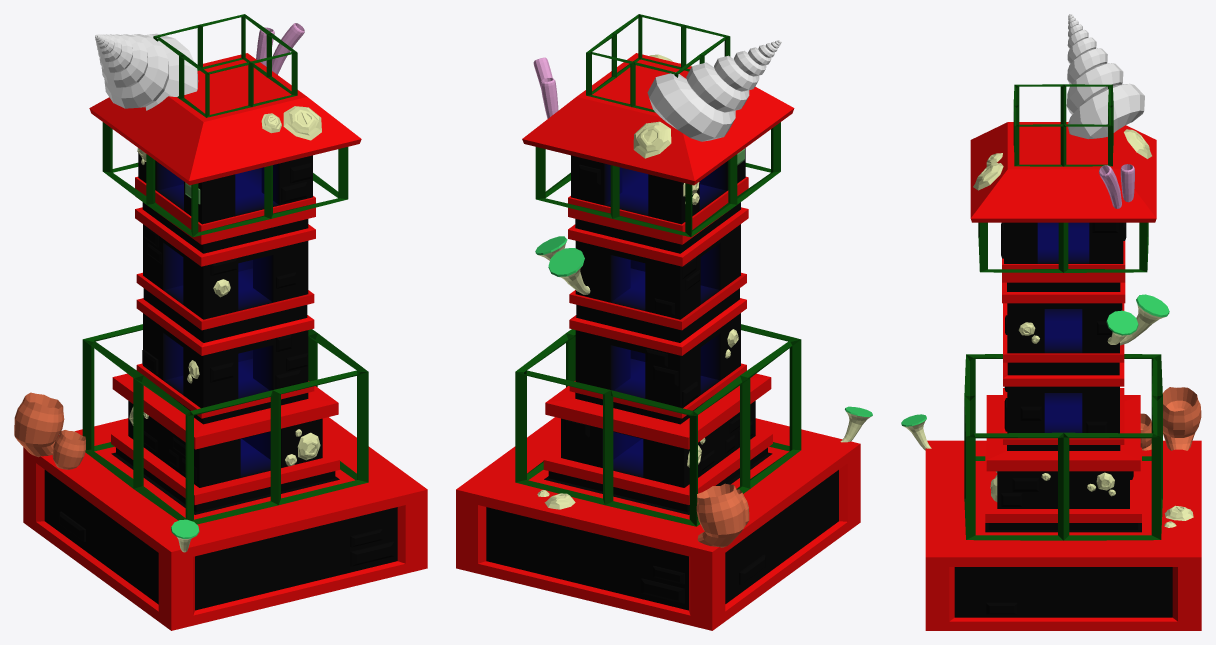
The model's file is TowerKelp.fbx.
3 renders of one model, left to right at view 1: azimuth 30°, elevation 25°; view 2: azimuth 150°, elevation 25°; view 3: azimuth 270°, elevation 25°, orthographic. The views are drawn at different scales.
Visible parts, largest first — view 1: Bottom, Circle, Cylinder, BarnacleRoof4.001, TubeCoralRoof1.002, TableCoral2.001; view 2: Bottom, Circle, Cylinder, TableCoral2.001, BarnacleRoof4.001, TubeCoralRoof1.002; view 3: Bottom, Circle, Cylinder, BarnacleRoof4.001, TableCoral2.001, TubeCoralRoof1.002.
Part boxes in pixels (bbox=[...]): Bottom: bbox=[23, 14, 427, 630]; Circle: bbox=[95, 33, 198, 110]; Cylinder: bbox=[14, 392, 85, 469]; BarnacleRoof4.001: bbox=[129, 106, 321, 466]; TubeCoralRoof1.002: bbox=[256, 23, 304, 74]; TableCoral2.001: bbox=[171, 519, 199, 552]; Bottom: bbox=[456, 14, 860, 630]; Circle: bbox=[647, 40, 781, 141]; Cylinder: bbox=[696, 483, 749, 547]; TableCoral2.001: bbox=[535, 236, 872, 442]; BarnacleRoof4.001: bbox=[537, 54, 738, 509]; TubeCoralRoof1.002: bbox=[533, 57, 558, 118]; Bottom: bbox=[925, 84, 1201, 630]; Circle: bbox=[1066, 14, 1144, 139]; Cylinder: bbox=[1140, 387, 1201, 450]; BarnacleRoof4.001: bbox=[973, 129, 1193, 527]; TableCoral2.001: bbox=[901, 294, 1169, 450]; TubeCoralRoof1.002: bbox=[1099, 164, 1134, 208].
Size of the model in its own units: 4.95 by 5.04 by 9.29.
